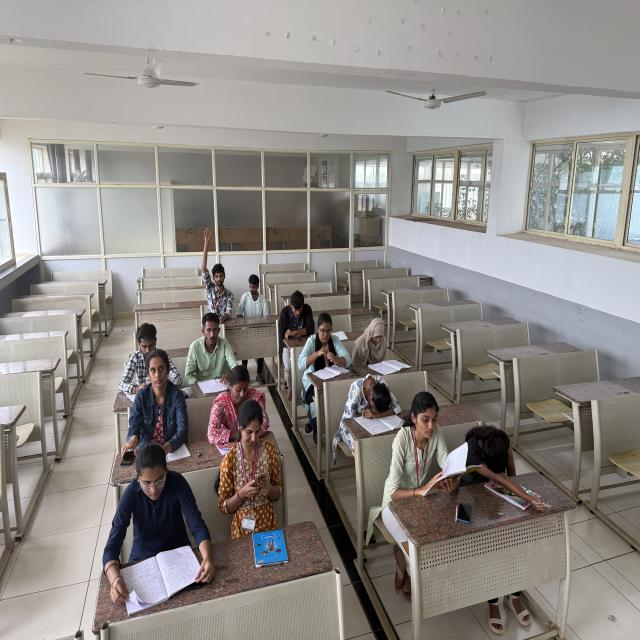Hand Rising: (188, 225, 238, 318)
Reading: (93, 439, 218, 602), (384, 383, 471, 514), (181, 310, 236, 397), (294, 313, 354, 392), (351, 309, 410, 371)
Sleeping: (461, 416, 531, 502), (335, 367, 408, 431)
Using Phone: (209, 400, 294, 546), (118, 350, 192, 470), (201, 360, 277, 454), (115, 319, 178, 393)
